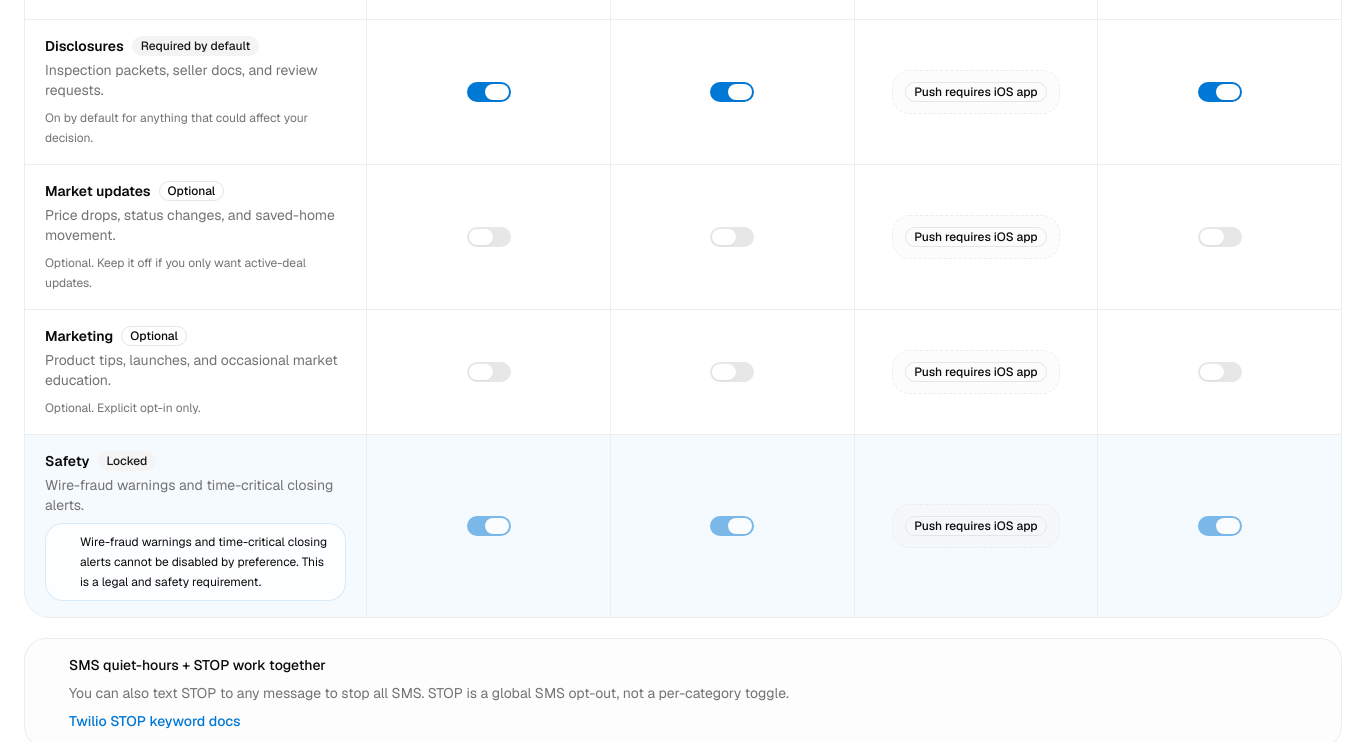
Scenario: ProfileContactPreferencesSection › autosaves a successful matrix toggle and tracks the confirmed diff
(page scrolled)
Click the switch named "marketing email" at [488, 372], box [466,362,510,382]
Wait 200 ms
(page scrolled)
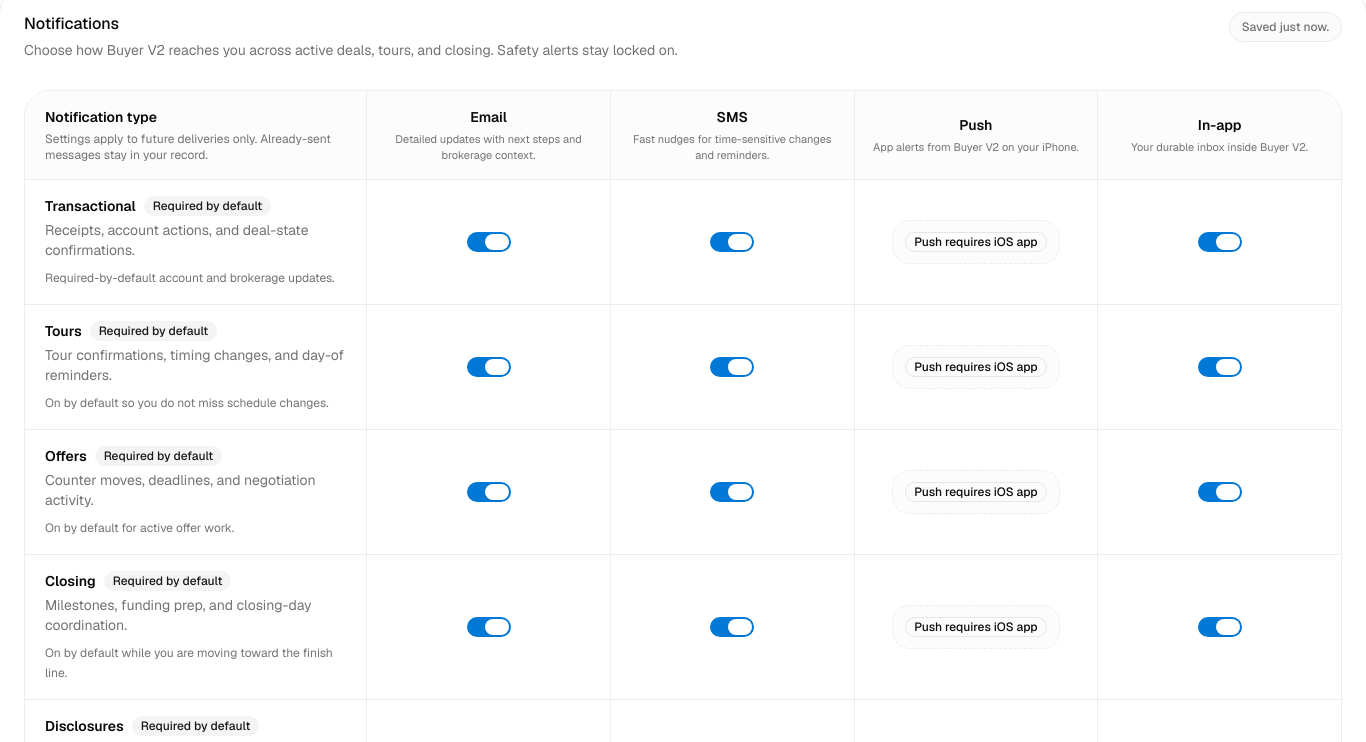
Check: the text "Saved just now." is shown, box [1229,12,1342,42]
